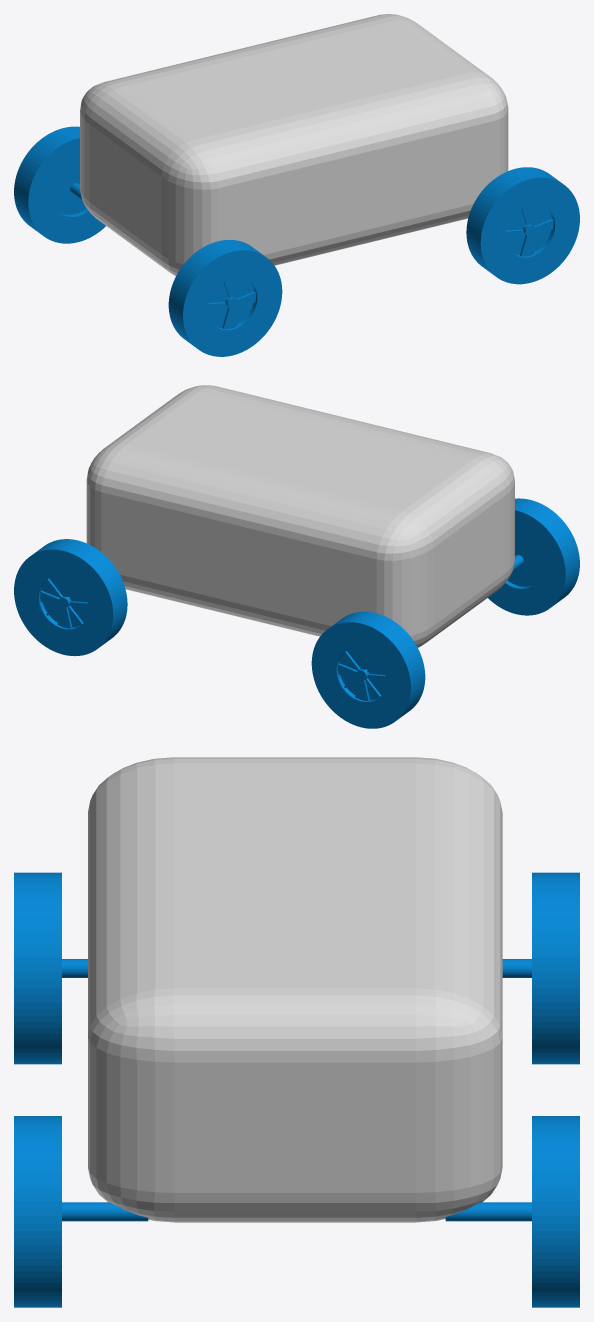
The model's file is robot_simple.gltf.
3 views of the same model, one above another, from view 1: azimuth 30°, elevation 25°; view 2: azimuth 150°, elevation 25°; view 3: azimuth 270°, elevation 25° (orthographic). The views are drawn at different scales.
Parts seen in each view (by area): view 1: Body, front_right_wheel, rear_right_wheel, rear_left_wheel; view 2: Body, rear_left_wheel, front_left_wheel, rear_right_wheel; view 3: Body, front_left_wheel, front_right_wheel, rear_left_wheel, rear_right_wheel.
Boxes of the visible parts, x1,y1,x2,y2 form: Body: (80,14,508,275); front_right_wheel: (466,167,579,284); rear_right_wheel: (168,240,282,356); rear_left_wheel: (14,126,105,243); Body: (86,385,514,647); rear_left_wheel: (311,611,425,728); front_left_wheel: (14,539,127,656); rear_right_wheel: (488,498,579,615); Body: (88,757,502,1222); front_left_wheel: (445,1116,579,1307); front_right_wheel: (14,1116,148,1307); rear_left_wheel: (502,872,579,1064); rear_right_wheel: (14,872,87,1064).
Bounding box in the file's own units: 0.8 × 0.3434 × 0.59.
